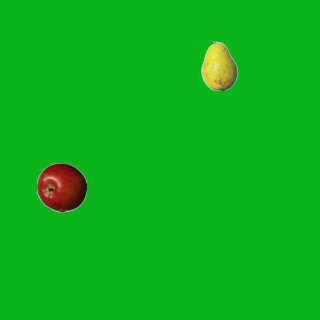Apple Braeburn: (36, 162, 86, 212)
Pear Monster: (194, 40, 244, 90)
